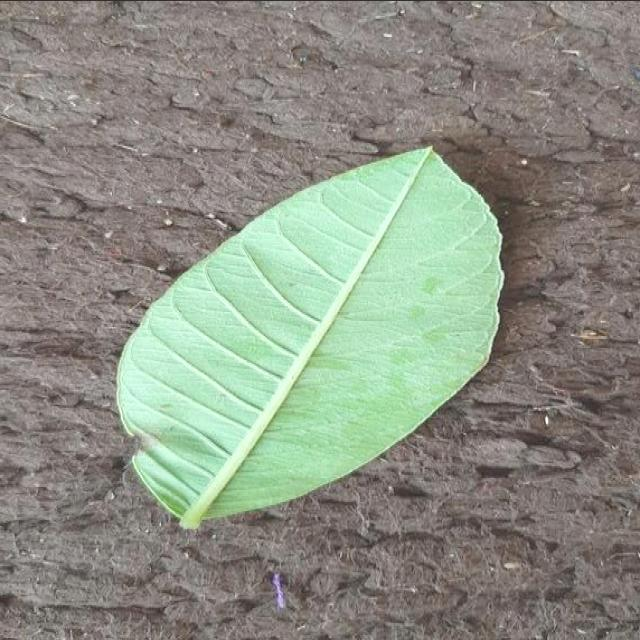leaf: (115, 144, 505, 530)
